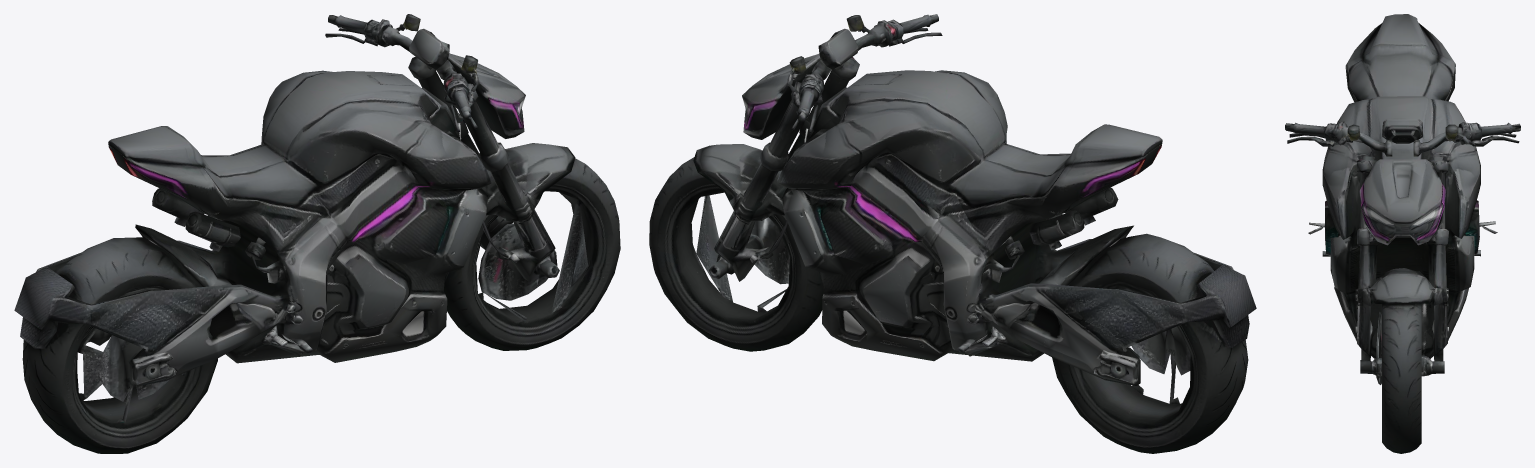
3 renders of one model, left to right at view 1: azimuth 30°, elevation 25°; view 2: azimuth 150°, elevation 25°; view 3: azimuth 270°, elevation 25°, orthographic. The views are drawn at different scales.
Parts seen in each view (by area): view 1: tripo_node_68fa4d52-54ee-46b9-af70-22149dd48be6; view 2: tripo_node_68fa4d52-54ee-46b9-af70-22149dd48be6; view 3: tripo_node_68fa4d52-54ee-46b9-af70-22149dd48be6.
Boxes of the visible parts, <box> form: tripo_node_68fa4d52-54ee-46b9-af70-22149dd48be6: <box>14,14,620,453</box>; tripo_node_68fa4d52-54ee-46b9-af70-22149dd48be6: <box>649,14,1256,453</box>; tripo_node_68fa4d52-54ee-46b9-af70-22149dd48be6: <box>1285,14,1520,453</box>.
Bounding box in the file's own units: 0.998 × 0.5449 × 0.4043.
1 material, 1 textured.
